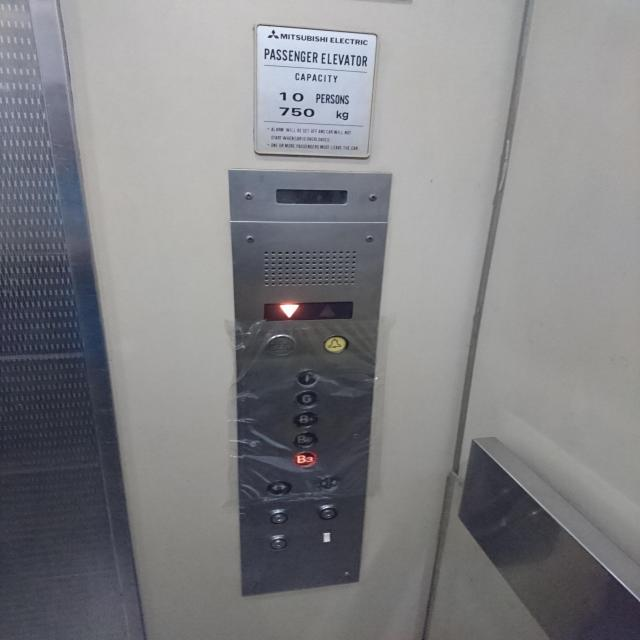1: (295, 366, 321, 388)
B1: (292, 409, 319, 430)
B2: (292, 429, 318, 450)
B3: (292, 450, 318, 471)
G: (294, 388, 320, 410)
alarm: (317, 332, 352, 358)
close: (316, 472, 342, 494)
keyhole: (265, 506, 292, 528), (314, 502, 341, 523), (264, 532, 291, 553)
open: (266, 477, 292, 499)
speaker: (263, 332, 298, 358)
switch: (320, 530, 333, 546)
